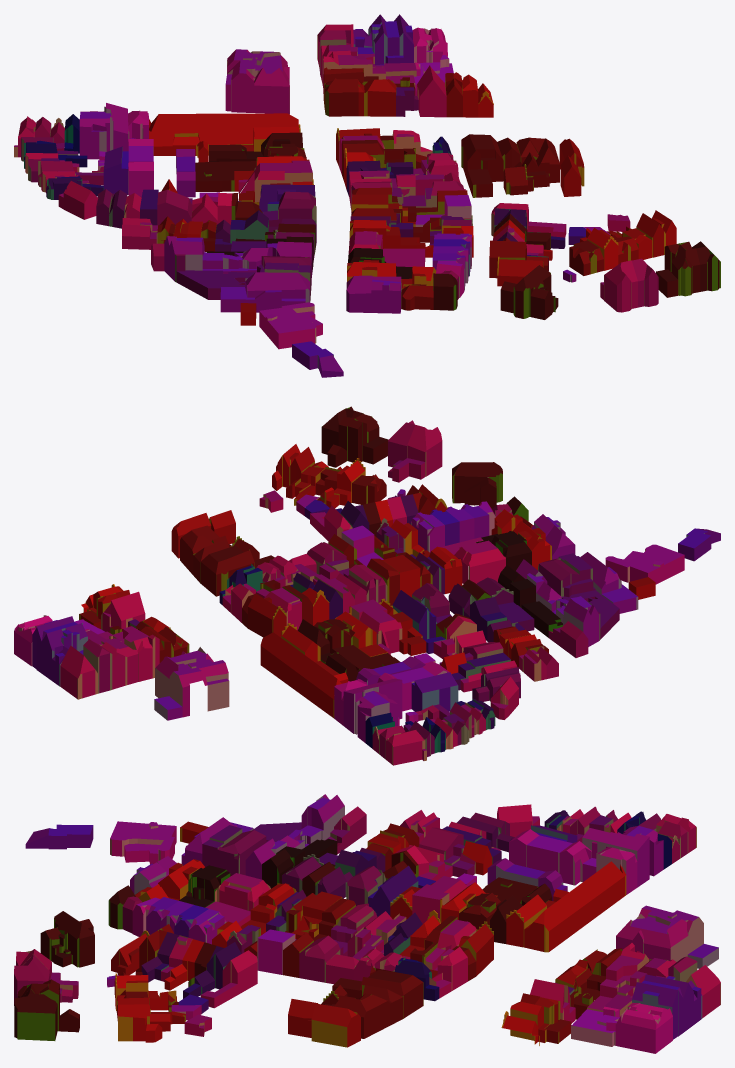
The model's file is buildings_7_10.glb.
The picture shows the model from 3 angles, top to bottom: view 1: azimuth 30°, elevation 25°; view 2: azimuth 150°, elevation 25°; view 3: azimuth 270°, elevation 25°; orthographic projection. The views are drawn at different scales.
Parts seen in each view (by area): view 1: buildings_7_10; view 2: buildings_7_10; view 3: buildings_7_10.
Part boxes in pixels (<box>): buildings_7_10: <box>14,14,720,377</box>; buildings_7_10: <box>14,406,720,765</box>; buildings_7_10: <box>14,794,720,1053</box>.
Size of the model in its own units: 154 by 14.7 by 203.
